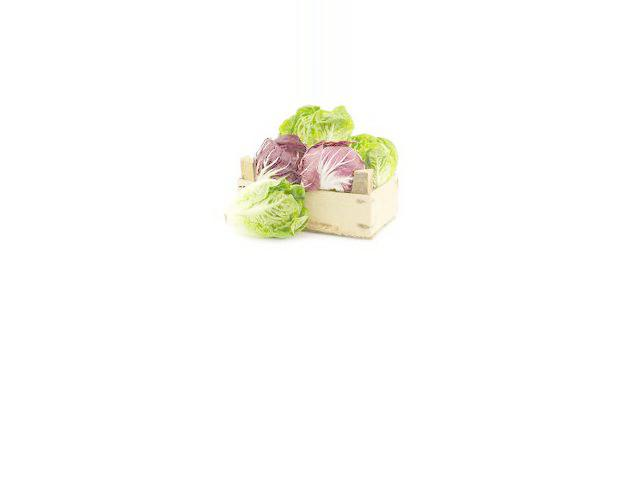lettuce: (242, 151, 412, 251)
